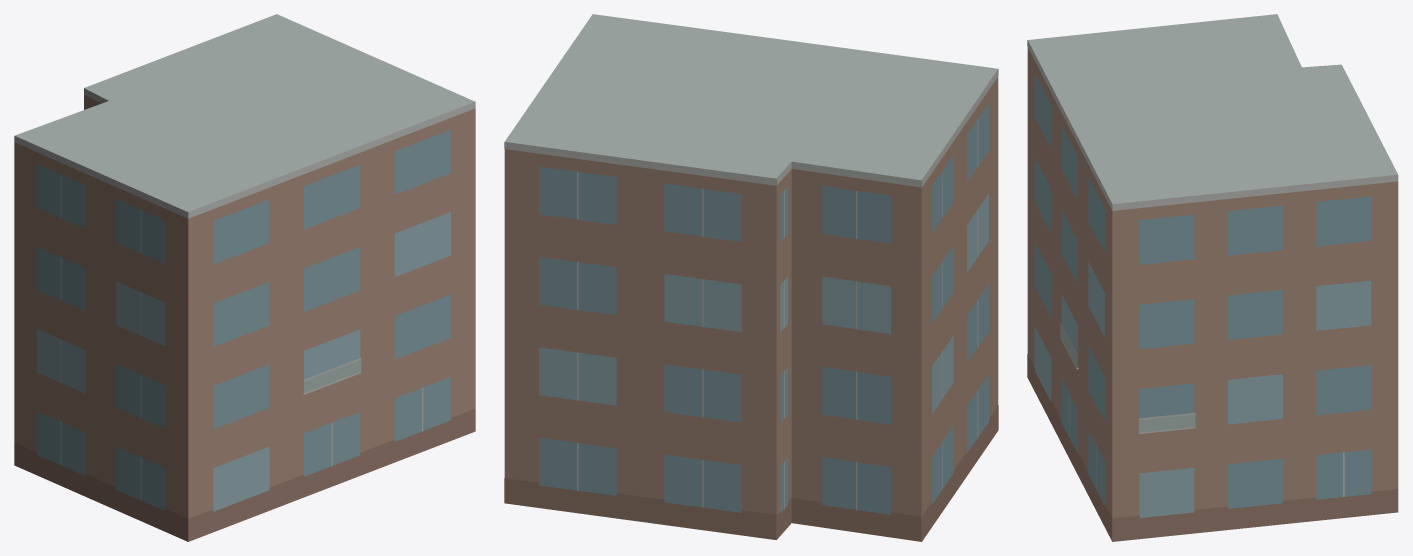
Rendered from survey-upis-32839502.glb.
The picture shows the model from 3 angles, left to right: view 1: azimuth 30°, elevation 25°; view 2: azimuth 150°, elevation 25°; view 3: azimuth 270°, elevation 25°; orthographic projection. The views are drawn at different scales.
Parts seen in each view (by area): view 1: survey-upis-32839502.tmp; view 2: survey-upis-32839502.tmp; view 3: survey-upis-32839502.tmp.
Part boxes in pixels (x1=…): survey-upis-32839502.tmp: x1=14, y1=14, x2=475, y2=541; survey-upis-32839502.tmp: x1=504, y1=14, x2=998, y2=541; survey-upis-32839502.tmp: x1=1027, y1=14, x2=1398, y2=541.
Size of the model in its own units: 14.87 by 12.3 by 12.25.
